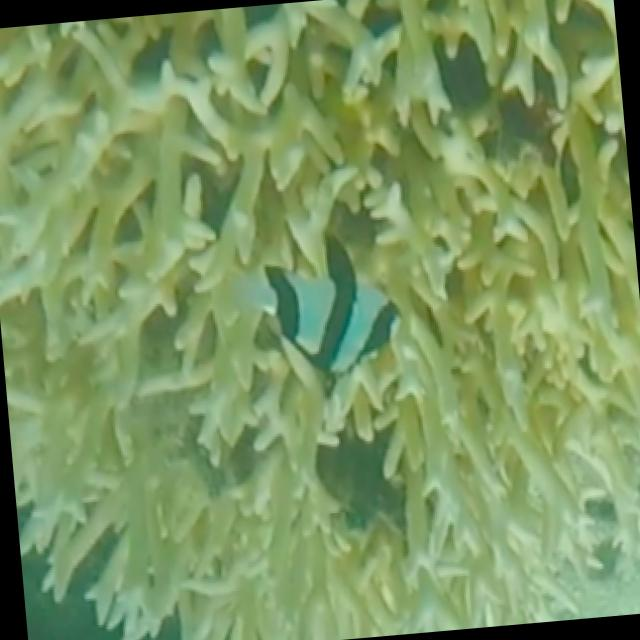ThreeStripedDamselfish: (232, 232, 399, 372)
